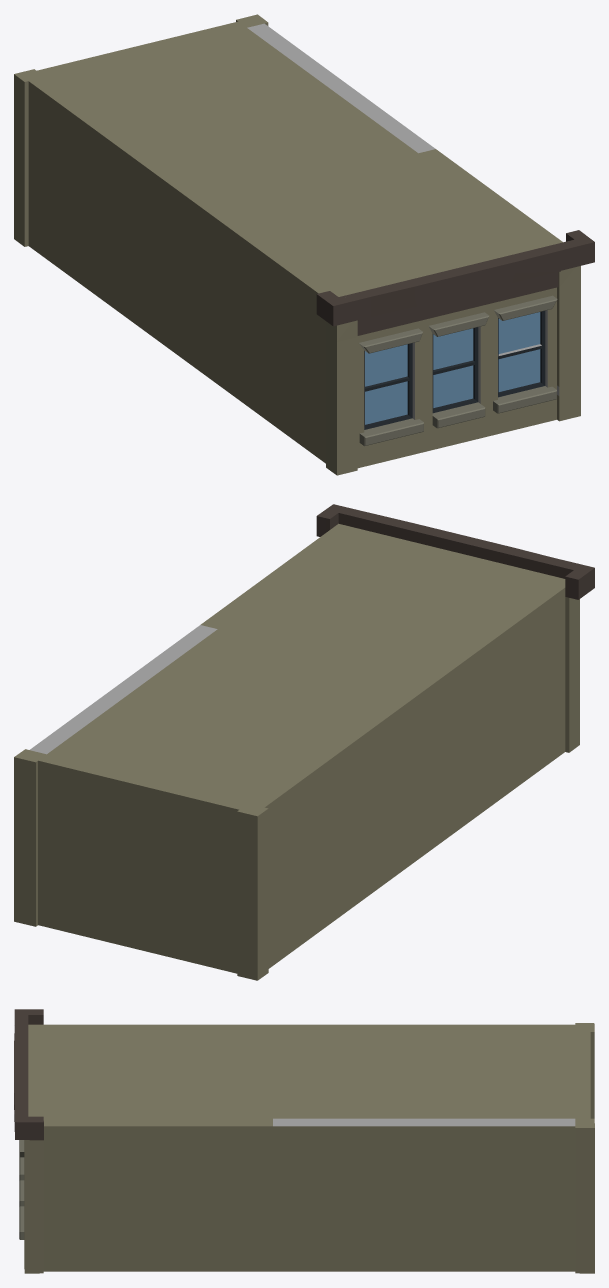
Rendered from 1StoryApartment.fbx.
3 renders of one model, top to bottom at view 1: azimuth 30°, elevation 25°; view 2: azimuth 150°, elevation 25°; view 3: azimuth 270°, elevation 25°, orthographic. The views are drawn at different scales.
Parts seen in each view (by area): view 1: pasted__pasted__pCube1; view 2: pasted__pasted__pCube1; view 3: pasted__pasted__pCube1.
Boxes of the visible parts, x1,y1,x2,y2 form: pasted__pasted__pCube1: (14,14,594,475); pasted__pasted__pCube1: (14,504,594,980); pasted__pasted__pCube1: (14,1009,594,1273).
Size of the model in its own units: 253 by 162 by 549.
